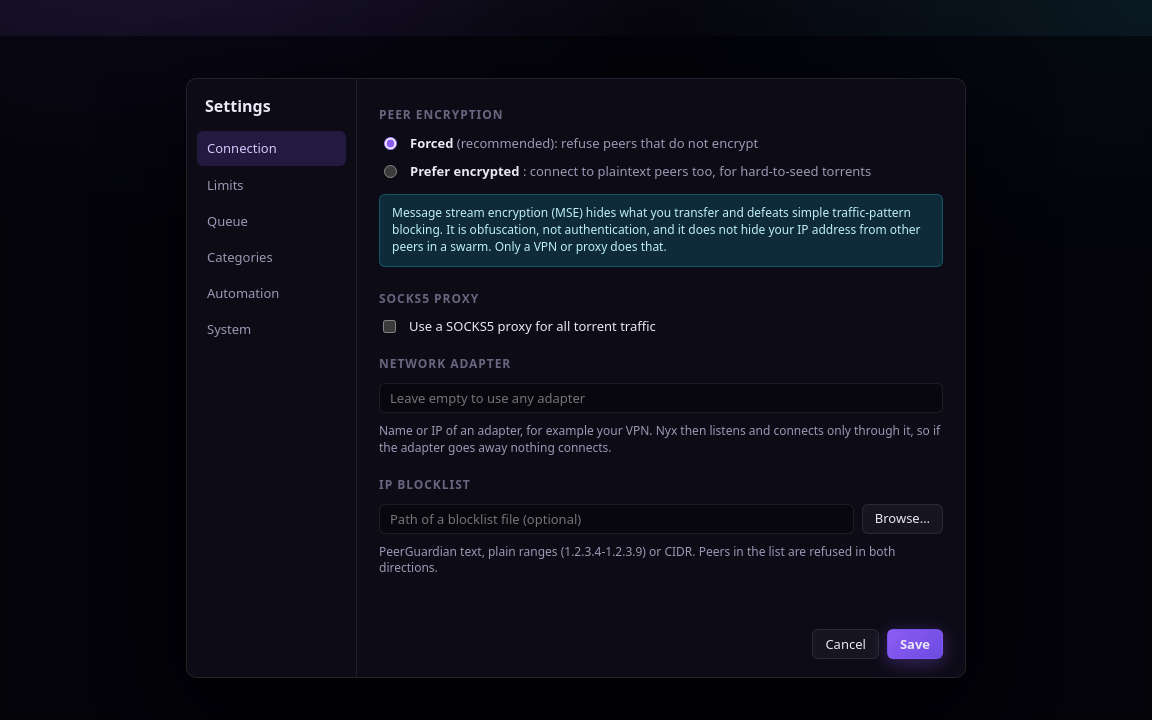
Scenario: settings page › schedule editor flags a block that becomes start == end, and Save is blocked
Click the tab "Limits" at [272, 185], box [197,168,346,202]
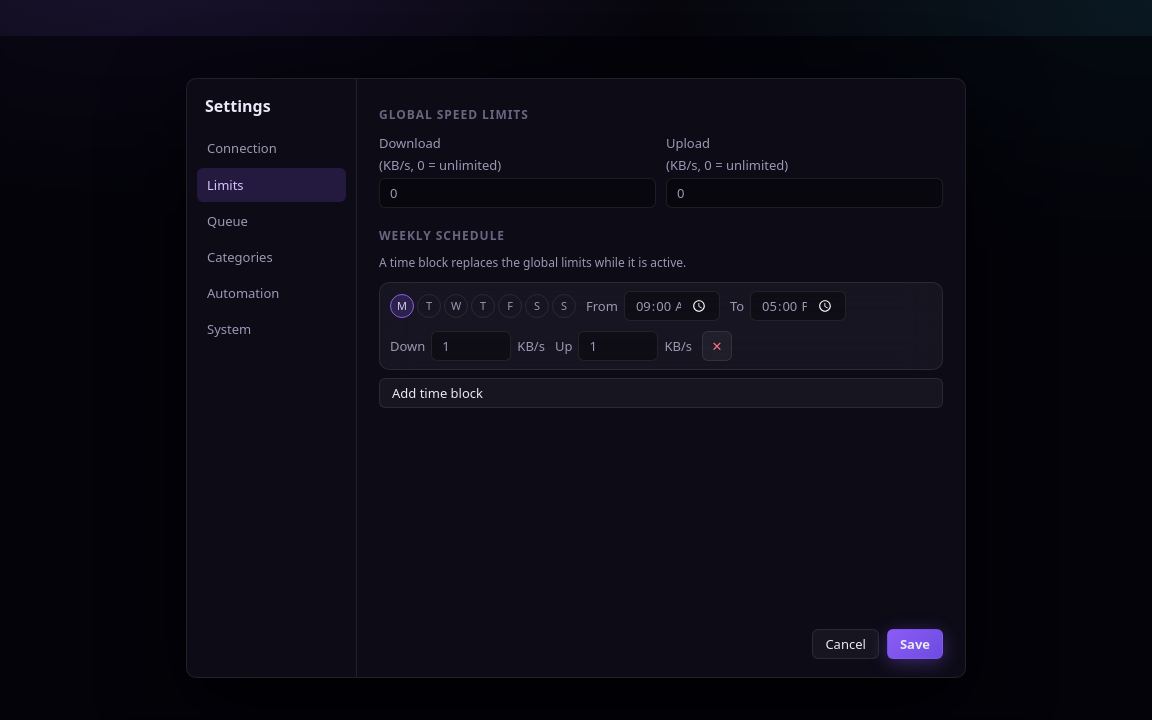
Replace the text in the time field named "End time" with "09:00" at [798, 306], box [750,291,846,321]
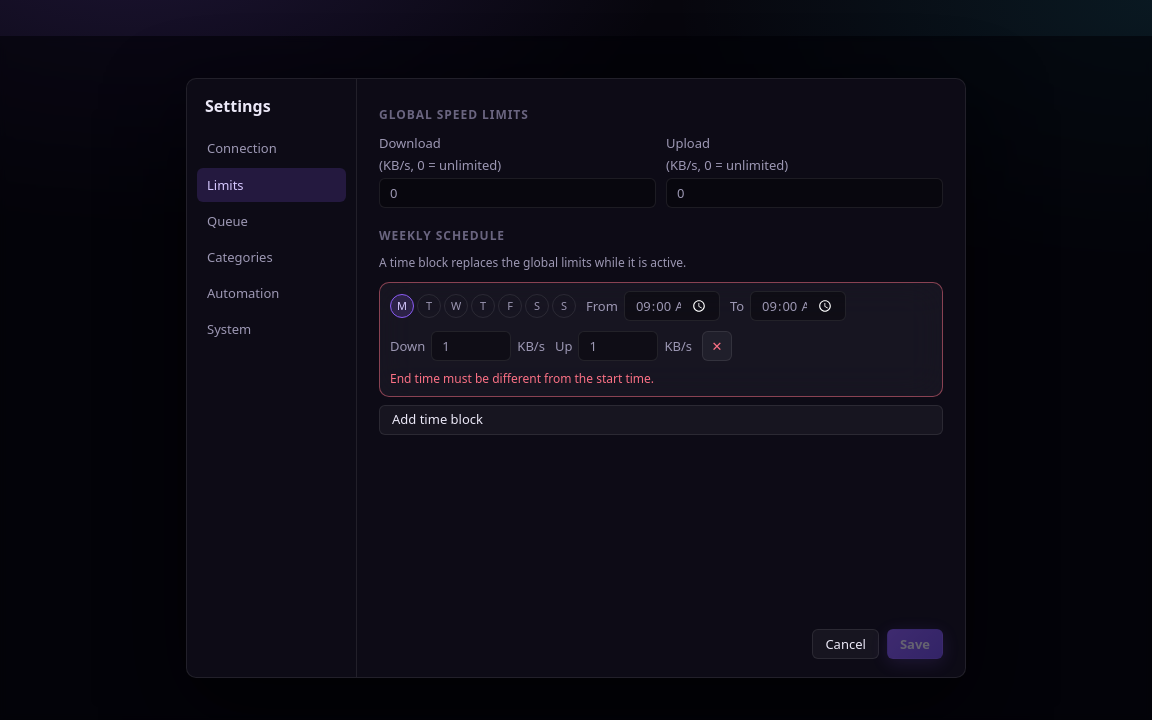
expect the message "End time must be different from the start time." is shown: met, box [390,370,654,387]
expect the button "Save" is disabled: met, box [887,629,943,659]
